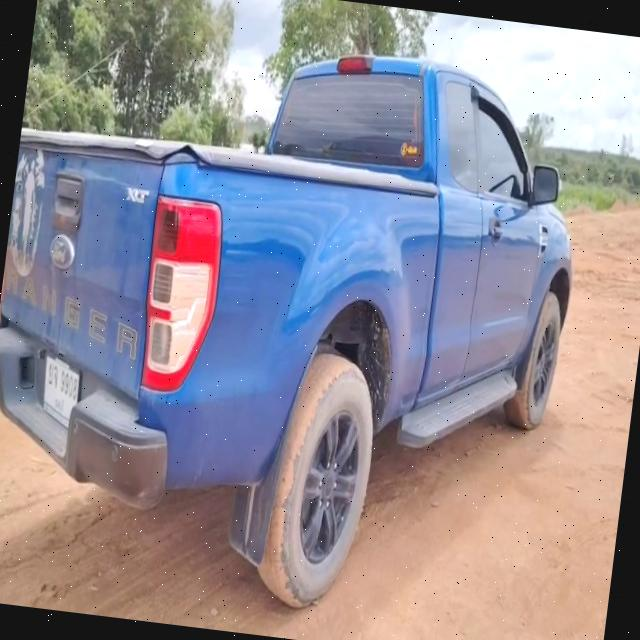Digit: (58, 369, 78, 401)
Licenseplate: (42, 349, 82, 436)
Provincename: (53, 398, 67, 415)
Thaichar: (46, 360, 59, 389)
